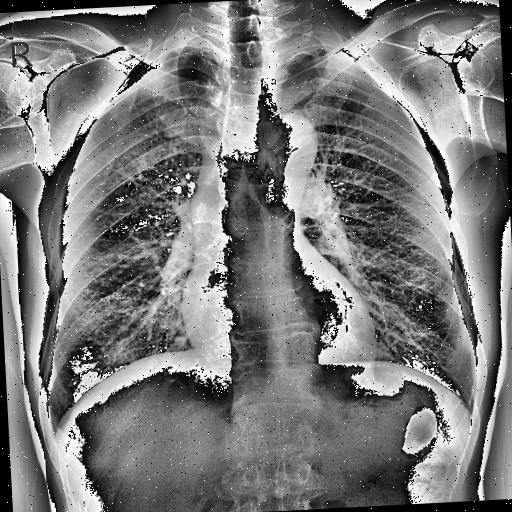0- Aortic enlargement: (190, 110, 322, 210), (259, 113, 318, 164), (271, 112, 320, 166)
11- Pleural thickening: (278, 42, 372, 80), (267, 48, 317, 108), (150, 44, 210, 66)
